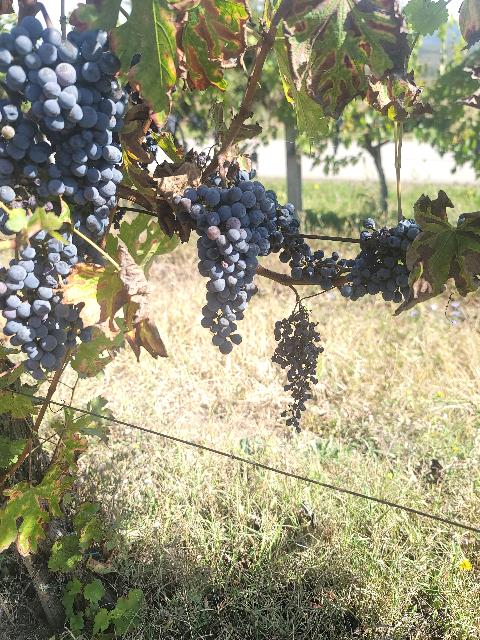grapes: (171, 170, 299, 354), (48, 30, 129, 240), (0, 246, 78, 379), (0, 16, 82, 131), (341, 220, 420, 306), (271, 304, 324, 432)
